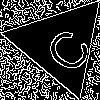C: (35, 19, 96, 77)
